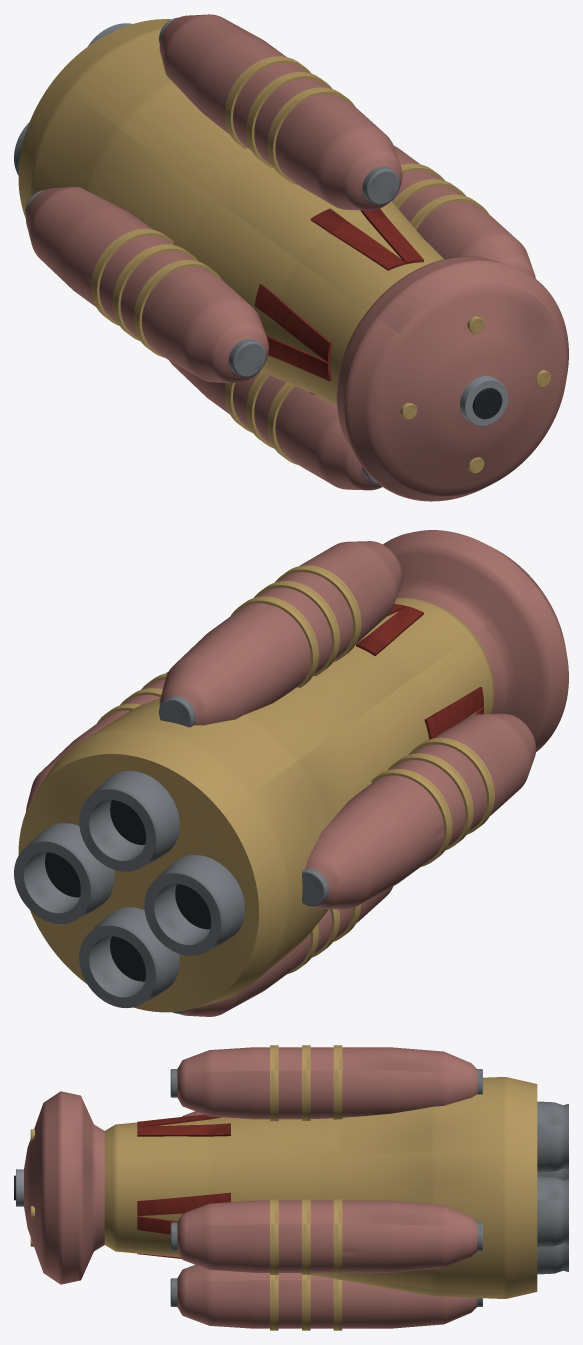
The picture shows the model from 3 angles, top to bottom: view 1: azimuth 30°, elevation 25°; view 2: azimuth 150°, elevation 25°; view 3: azimuth 270°, elevation 25°; orthographic projection. The views are drawn at different scales.
Parts seen in each view (by area): view 1: HeartsBlood gold pressure hull, HeartsBlood rose nose, HeartsBlood radial pod 2, HeartsBlood radial pod 1, HeartsBlood radial pod 3, HeartsBlood radial pod 0, HeartsBlood forward rose field 2 -1, HeartsBlood forward rose field 1 1, HeartsBlood forward rose field 2 1, HeartsBlood central nose bezel, HeartsBlood pod clamp 1 0, HeartsBlood pod clamp 2 0 (+11 smaller); view 2: HeartsBlood gold pressure hull, HeartsBlood radial pod 2, HeartsBlood radial pod 1, HeartsBlood rose nose, HeartsBlood aft duct housing 2, HeartsBlood aft duct housing 1, HeartsBlood aft duct housing 0, HeartsBlood aft duct housing 3, HeartsBlood radial pod 3, HeartsBlood forward rose field 2 -1, HeartsBlood forward rose field 1 1, HeartsBlood radial pod 0 (+12 smaller); view 3: HeartsBlood gold pressure hull, HeartsBlood radial pod 0, HeartsBlood radial pod 1, HeartsBlood rose nose, HeartsBlood radial pod 3, HeartsBlood aft duct housing 0, HeartsBlood aft duct housing 1, HeartsBlood forward rose field 0 1, HeartsBlood forward rose field 1 -1, HeartsBlood aft duct housing 3, HeartsBlood pod clamp 0 2, HeartsBlood pod clamp 1 2 (+9 smaller).
Part boxes in pixels (<box>): HeartsBlood gold pressure hull: <box>18,19,443,405</box>; HeartsBlood rose nose: <box>336,256,568,501</box>; HeartsBlood radial pod 2: <box>26,187,268,382</box>; HeartsBlood radial pod 1: <box>159,14,402,210</box>; HeartsBlood radial pod 3: <box>169,360,382,490</box>; HeartsBlood radial pod 0: <box>391,145,535,278</box>; HeartsBlood forward rose field 2 -1: <box>254,284,331,362</box>; HeartsBlood forward rose field 1 1: <box>310,208,405,270</box>; HeartsBlood forward rose field 2 1: <box>266,335,331,381</box>; HeartsBlood central nose bezel: <box>460,376,508,426</box>; HeartsBlood pod clamp 1 0: <box>267,87,355,185</box>; HeartsBlood pod clamp 2 0: <box>133,260,221,357</box>; HeartsBlood gold pressure hull: <box>18,598,493,1012</box>; HeartsBlood radial pod 2: <box>305,713,536,909</box>; HeartsBlood radial pod 1: <box>159,541,402,725</box>; HeartsBlood rose nose: <box>383,530,568,751</box>; HeartsBlood aft duct housing 2: <box>144,855,244,955</box>; HeartsBlood aft duct housing 1: <box>79,771,179,871</box>; HeartsBlood aft duct housing 0: <box>14,823,114,923</box>; HeartsBlood aft duct housing 3: <box>79,907,179,1008</box>; HeartsBlood radial pod 3: <box>180,886,393,1016</box>; HeartsBlood forward rose field 2 -1: <box>424,687,483,739</box>; HeartsBlood forward rose field 1 1: <box>356,606,423,655</box>; HeartsBlood radial pod 0: <box>26,671,168,811</box>; HeartsBlood gold pressure hull: <box>104,1077,537,1298</box>; HeartsBlood radial pod 0: <box>177,1200,477,1272</box>; HeartsBlood radial pod 1: <box>177,1047,477,1119</box>; HeartsBlood rose nose: <box>24,1091,104,1284</box>; HeartsBlood radial pod 3: <box>177,1264,477,1328</box>; HeartsBlood aft duct housing 0: <box>537,1176,568,1247</box>; HeartsBlood aft duct housing 1: <box>537,1101,568,1172</box>; HeartsBlood forward rose field 0 1: <box>137,1192,230,1216</box>; HeartsBlood forward rose field 1 -1: <box>137,1123,230,1136</box>; HeartsBlood aft duct housing 3: <box>537,1243,568,1274</box>; HeartsBlood pod clamp 0 2: <box>333,1198,342,1274</box>; HeartsBlood pod clamp 1 2: <box>333,1045,342,1119</box>.
Size of the model in its own units: 2.13 by 2.13 by 3.84.
6 materials, 4 textured.
